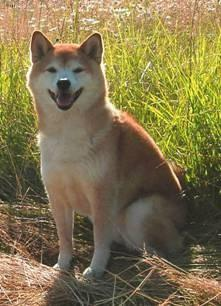dog-shiba_inu: (27, 30, 101, 114)
